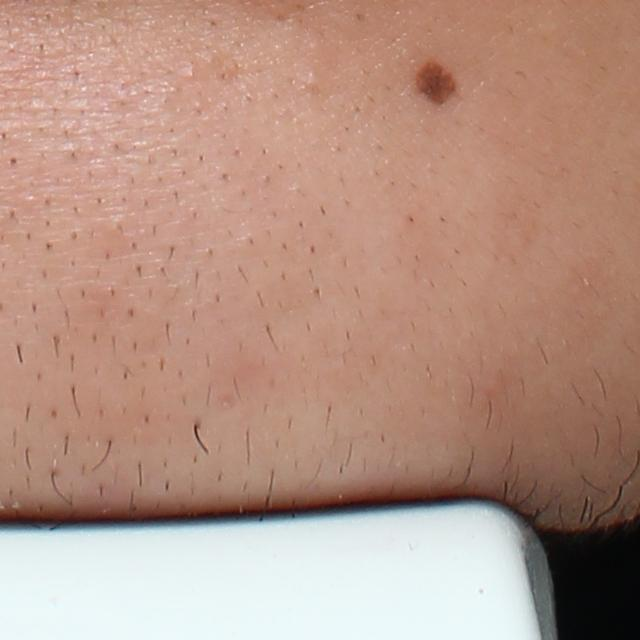comedo: (182, 64, 200, 84)
nevus: (413, 57, 460, 107)
